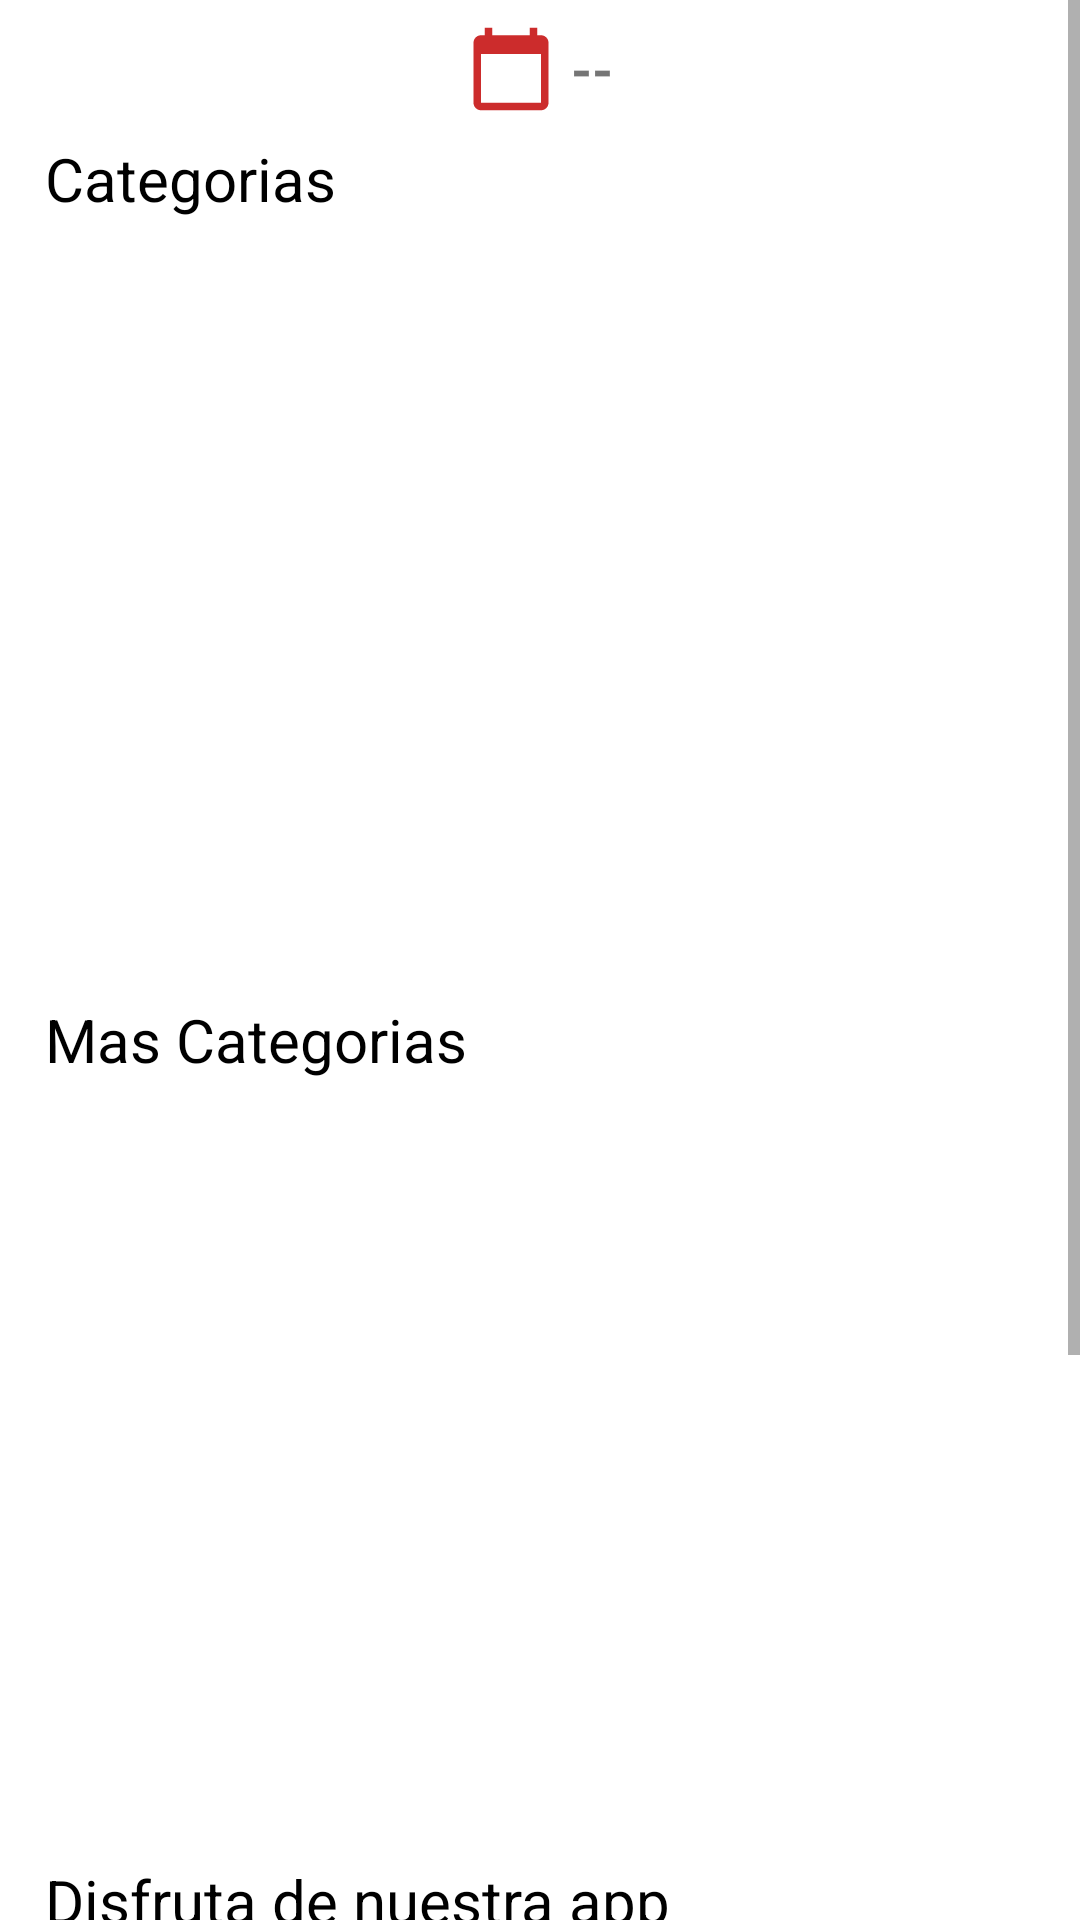

Icon bounding boxes for this 1080 × 1920 phone screenshot, format bbox=[x1, y1, x2, y2]:
calendario: bbox=[473, 27, 549, 111]
